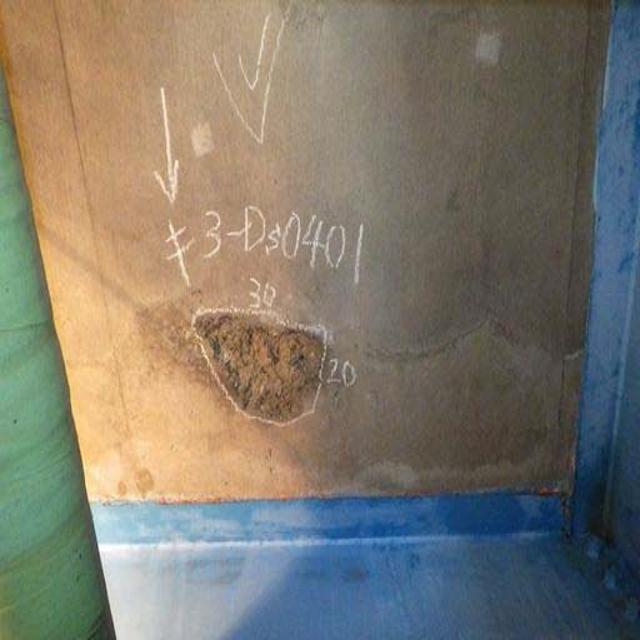spalling: (191, 280, 353, 450)
